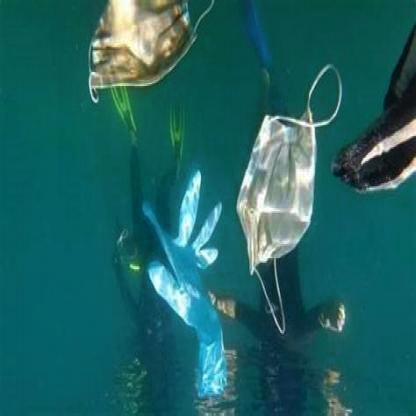Mask: (237, 59, 341, 338), (87, 0, 214, 113)
glove: (135, 169, 229, 402)
